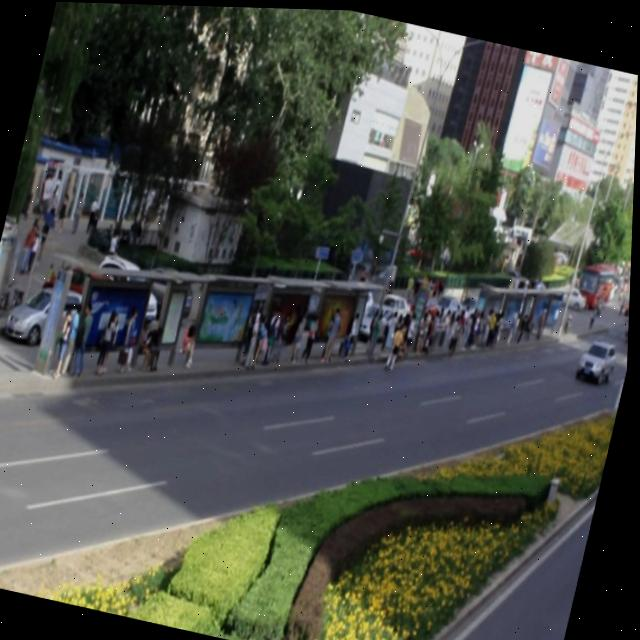car: (575, 332, 620, 383)
